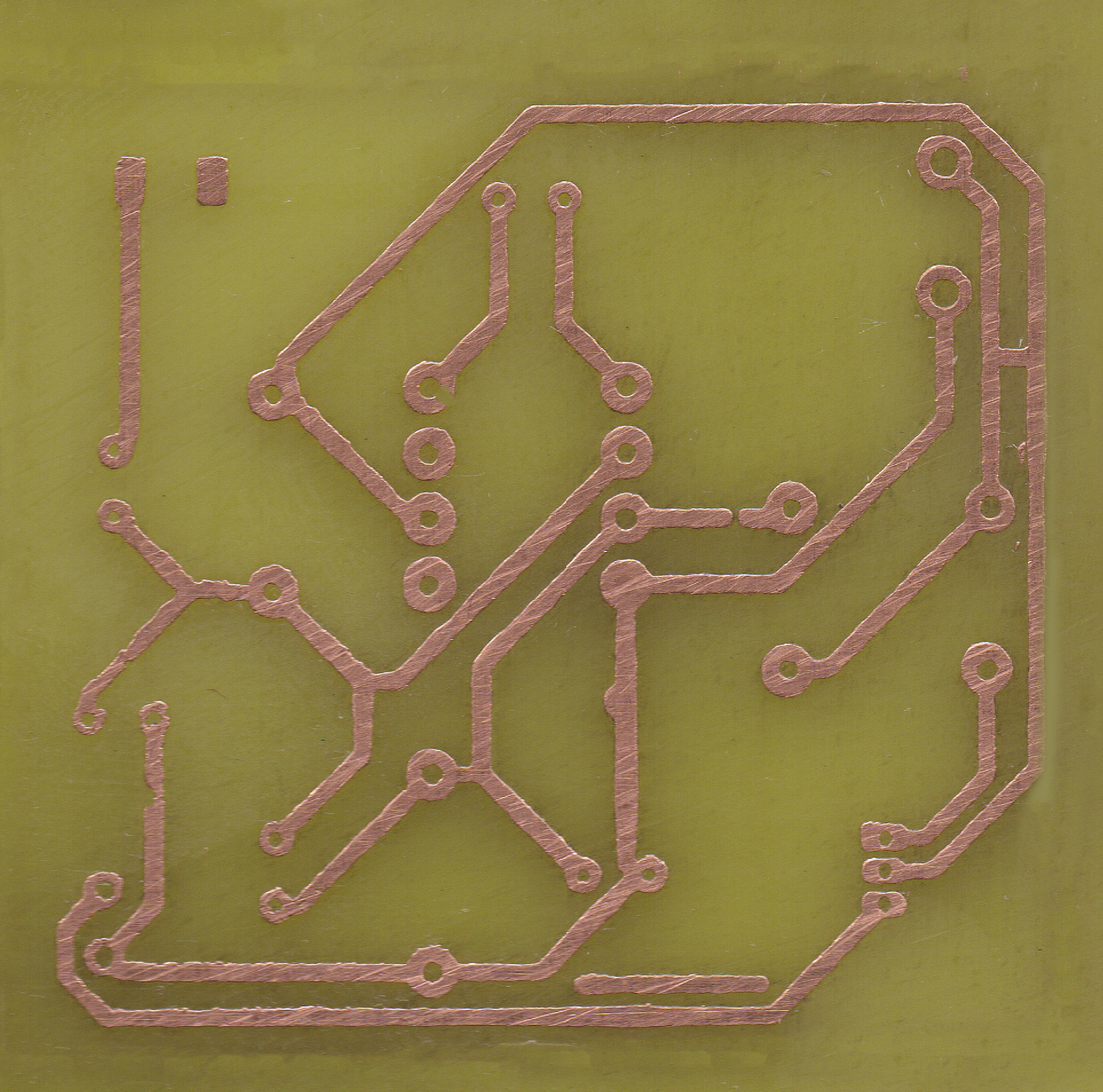missing_hole: (399, 359, 457, 418), (137, 700, 173, 736), (71, 702, 108, 736)
mouse_bite: (137, 780, 167, 812)
open_circuit: (722, 507, 748, 526)
short: (981, 338, 1047, 374)
spur: (601, 680, 637, 722)
spurious_copper: (568, 973, 771, 997)
